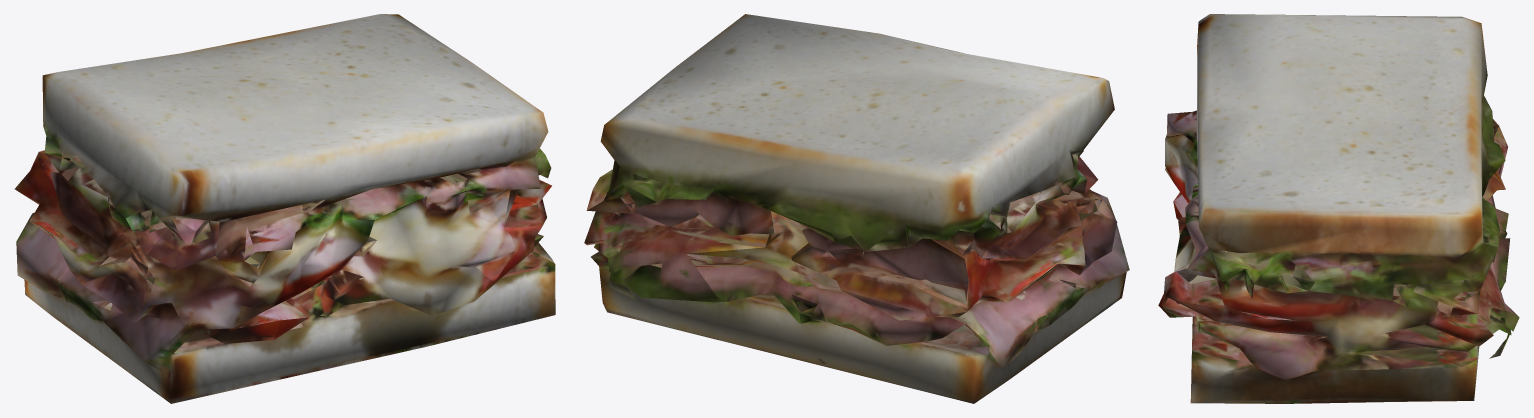
File: Sandwich_low.fbx
3 renders of one model, left to right at view 1: azimuth 30°, elevation 25°; view 2: azimuth 150°, elevation 25°; view 3: azimuth 270°, elevation 25°, orthographic. The views are drawn at different scales.
Visible parts, largest first — view 1: Sandwich_low; view 2: Sandwich_low; view 3: Sandwich_low.
Boxes of the visible parts, left/top/right/bottom form: Sandwich_low: left=15, top=14, right=555, bottom=403; Sandwich_low: left=584, top=14, right=1129, bottom=403; Sandwich_low: left=1158, top=14, right=1519, bottom=403.
Size of the model in its own units: 196 by 100 by 145.
